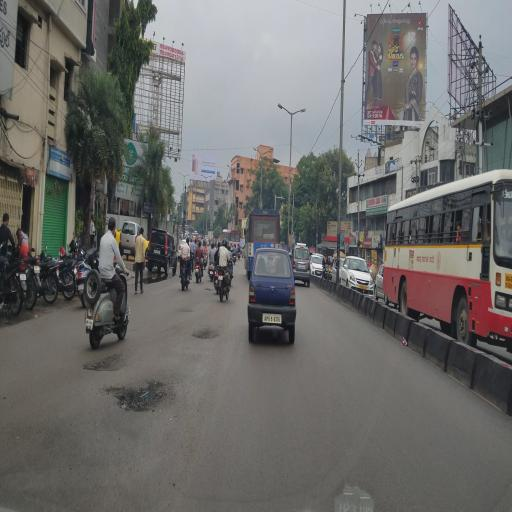street_light_0: (290, 93, 312, 129), (269, 96, 289, 124)
